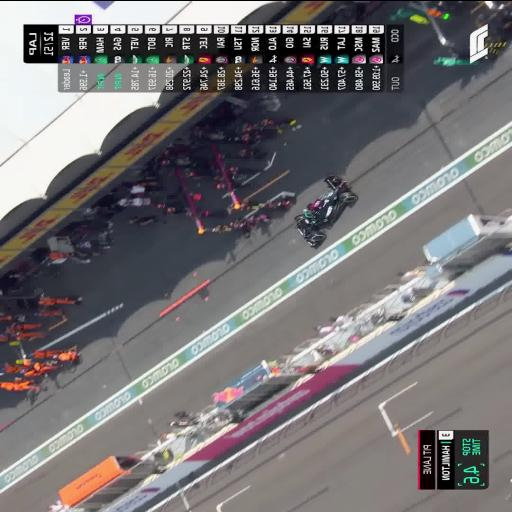f1_car: (295, 175, 357, 247)
